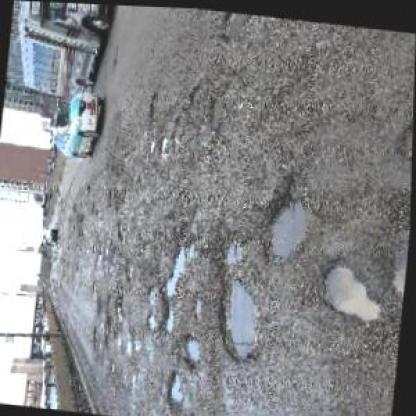pothole: (210, 272, 268, 362), (316, 257, 387, 320), (260, 190, 314, 263), (162, 241, 190, 298), (216, 10, 250, 40), (391, 114, 412, 162), (178, 330, 205, 366), (165, 365, 189, 402), (205, 90, 223, 129), (162, 298, 180, 333), (146, 309, 160, 330)
